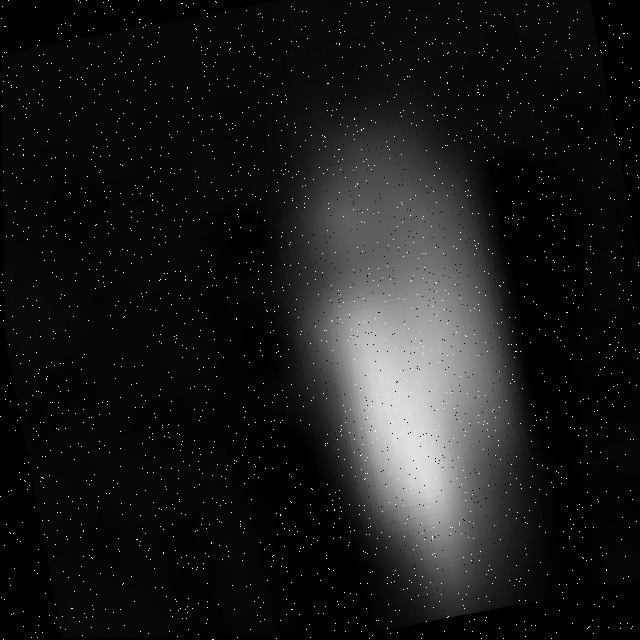person: (273, 112, 570, 609)
